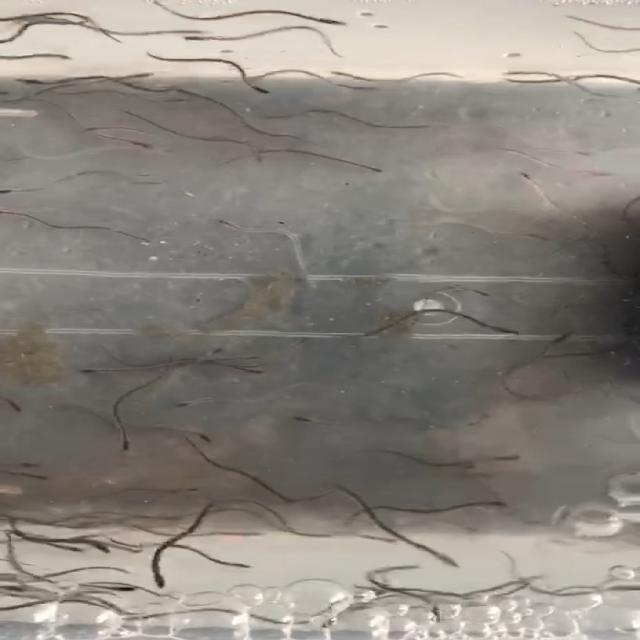active_glass_eel: (100, 135, 168, 162), (166, 24, 225, 50), (197, 209, 240, 238), (0, 176, 44, 204), (476, 321, 529, 344), (81, 120, 144, 139), (298, 14, 357, 31), (37, 538, 86, 558), (0, 585, 51, 604), (350, 157, 392, 180), (110, 68, 164, 84), (459, 409, 495, 432), (324, 62, 363, 83), (568, 162, 619, 178), (18, 68, 52, 92), (352, 532, 402, 548), (82, 542, 148, 554), (270, 412, 319, 428), (193, 343, 226, 366), (205, 559, 262, 572), (424, 557, 467, 574), (162, 78, 200, 97), (498, 230, 546, 245), (490, 443, 520, 467), (253, 107, 292, 125), (174, 430, 220, 445), (162, 484, 202, 501), (69, 364, 121, 377), (142, 570, 178, 588), (510, 169, 548, 186), (234, 81, 272, 98), (230, 361, 270, 377), (167, 25, 212, 39), (112, 612, 151, 628), (546, 328, 580, 346), (602, 584, 640, 600), (30, 52, 80, 64), (112, 581, 147, 598), (468, 500, 516, 512), (418, 608, 450, 625), (502, 62, 536, 78), (108, 440, 144, 454), (248, 147, 274, 166), (178, 398, 206, 415), (210, 497, 239, 512), (263, 492, 294, 506), (492, 470, 520, 485), (220, 528, 244, 542)
